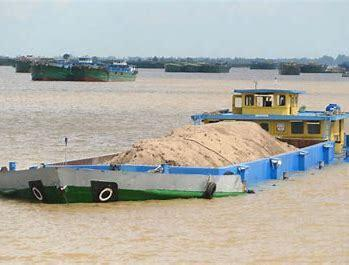Ship: (1, 90, 349, 202)
